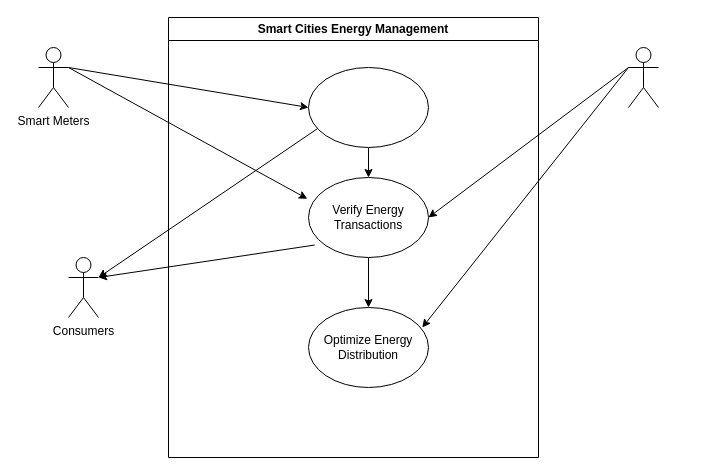
Image size: 704x475. Some labels were removed from this diagram. The centre of each missing label's shape, as x and y in pixels:
"Energy Authority" goes at point 643,77.
"Record Energy Consumption" goes at point 368,107.
